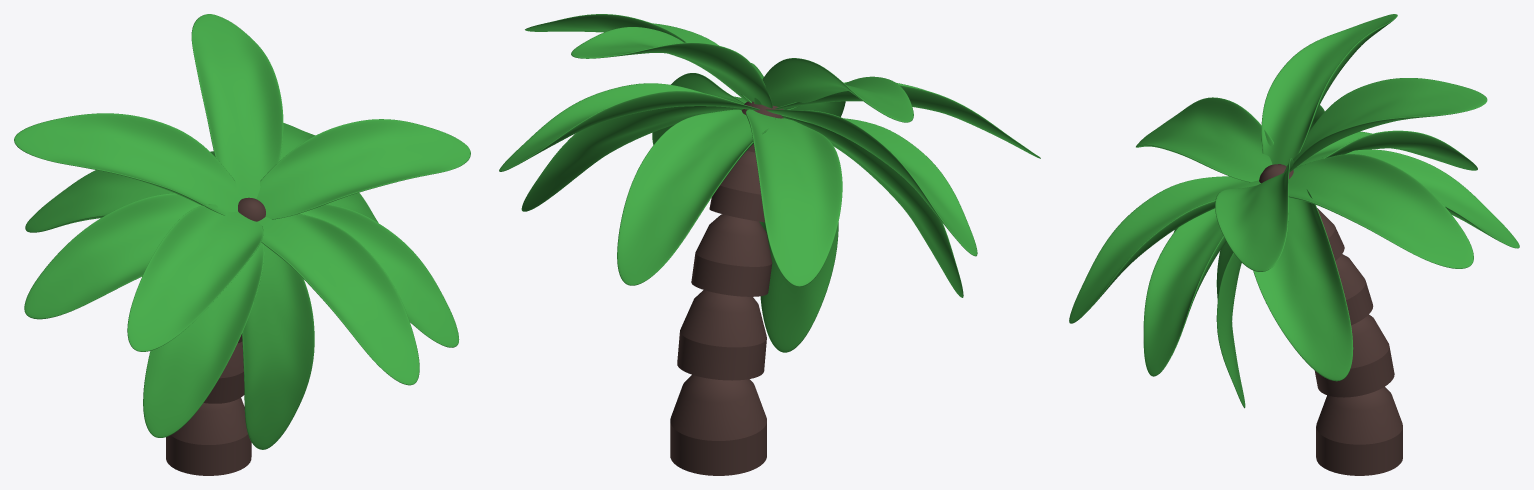
Rendered from tree6.fbx.
3 views of the same model, side by side, from view 1: azimuth 30°, elevation 25°; view 2: azimuth 150°, elevation 25°; view 3: azimuth 270°, elevation 25° (orthographic). The views are drawn at different scales.
Parts seen in each view (by area): view 1: pDisc55, pDisc54, pDisc64, pDisc62, pDisc53, pDisc56, pDisc61, pDisc57, pCylinder35, pDisc58, pDisc65, pDisc60 (+1 smaller); view 2: pCylinder35, pDisc63, pDisc65, pDisc61, pDisc60, pDisc59, pDisc62, pDisc64, pDisc56, pDisc57, pDisc53, pDisc55 (+1 smaller); view 3: pCylinder35, pDisc60, pDisc59, pDisc64, pDisc58, pDisc54, pDisc62, pDisc53, pDisc55, pDisc63, pDisc65, pDisc56.
Part boxes in pixels (x1,y1,x2,y2): pDisc55: (256,119,470,219); pDisc54: (257,213,419,385); pDisc64: (14,113,241,215); pDisc62: (191,14,283,198); pDisc53: (127,204,263,351); pDisc56: (242,245,314,449); pDisc61: (24,193,201,319); pDisc57: (143,242,264,437); pCylinder35: (166,197,265,475); pDisc58: (300,204,459,347); pDisc65: (25,170,174,232); pDisc60: (279,123,315,160); pCylinder35: (670,101,783,475); pDisc63: (617,109,775,285); pDisc65: (746,109,842,286); pDisc61: (766,109,977,256); pDisc60: (499,83,759,171); pDisc59: (521,106,743,211); pDisc62: (571,26,772,108); pDisc64: (754,58,913,122); pDisc56: (759,221,838,352); pDisc57: (781,115,963,297); pDisc53: (775,82,1040,158); pDisc55: (525,14,751,103); pCylinder35: (1259,164,1402,475); pDisc60: (1288,154,1473,268); pDisc59: (1253,188,1353,381); pDisc64: (1261,14,1397,166); pDisc58: (1143,208,1226,376); pDisc54: (1069,176,1260,323); pDisc62: (1284,78,1487,172); pDisc53: (1136,97,1273,182); pDisc55: (1215,158,1293,271); pDisc63: (1324,149,1519,248); pDisc65: (1296,130,1477,170); pDisc56: (1216,242,1245,408).
Bounding box in the file's own units: 11.32 × 9.86 × 10.37.
